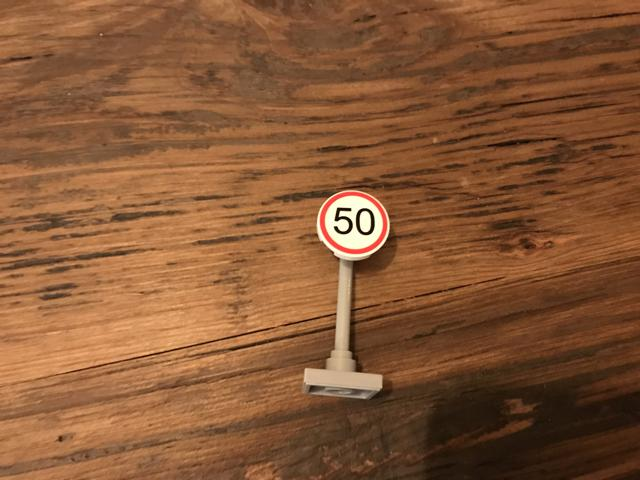tempolimit 50: (318, 191, 392, 259)
